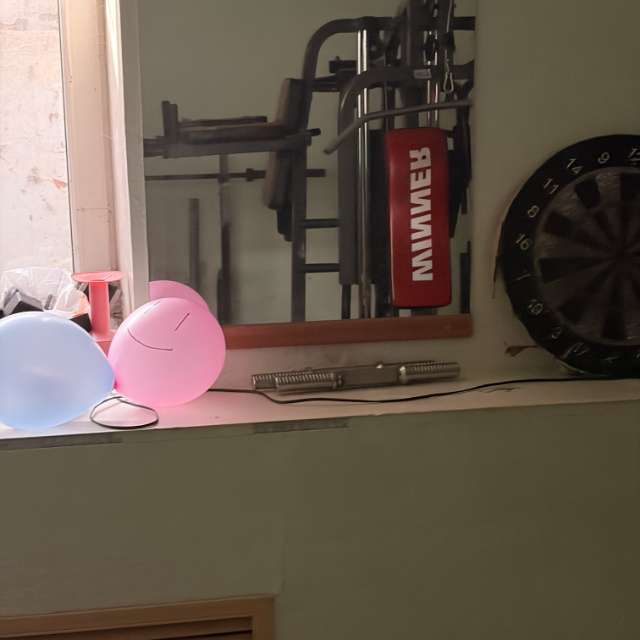balloon: (0, 310, 115, 430), (106, 297, 227, 406)
